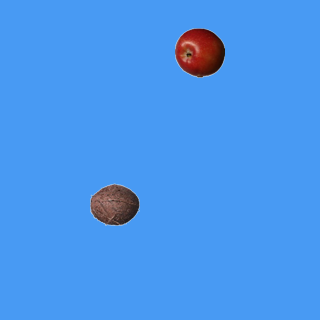Apple Braeburn: (174, 27, 224, 77)
Cocos: (89, 179, 139, 229)
